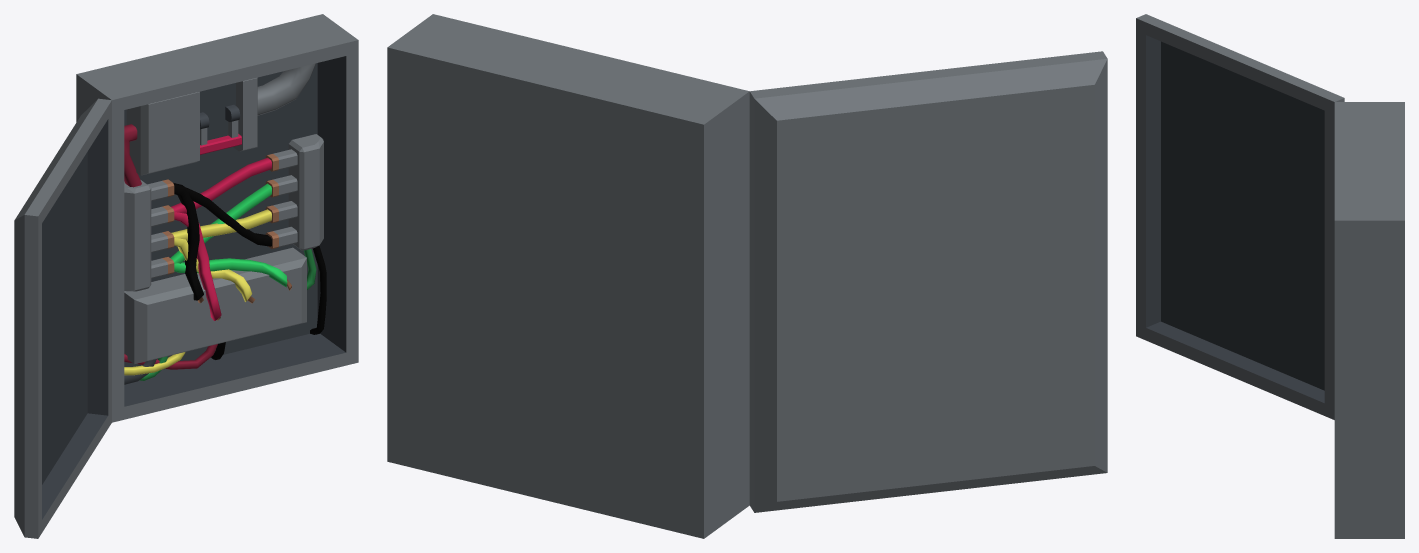
Rendered from fusebox.fbx.
3 renders of one model, left to right at view 1: azimuth 30°, elevation 25°; view 2: azimuth 150°, elevation 25°; view 3: azimuth 270°, elevation 25°, orthographic. The views are drawn at different scales.
Parts seen in each view (by area): view 1: Fusebox, FuseboxEquipment, FuseboxLid, WireBlueBroke, WireGreenBroke, WireRed, WireRedBroke, WireBlue, WireYellow, WireGreen, WireYellowBroke, Cube; view 2: Fusebox, FuseboxLid; view 3: FuseboxLid, Fusebox.
Part boxes in pixels (left/top/right/bottom): Fusebox: left=76, top=14, right=358, bottom=422; FuseboxEquipment: left=124, top=63, right=326, bottom=384; FuseboxLid: left=14, top=98, right=111, bottom=538; WireBlueBroke: left=173, top=183, right=203, bottom=303; WireGreenBroke: left=174, top=258, right=291, bottom=290; WireRed: left=171, top=158, right=271, bottom=213; WireRedBroke: left=174, top=212, right=221, bottom=320; WireBlue: left=176, top=187, right=271, bottom=246; WireYellow: left=171, top=209, right=271, bottom=241; WireGreen: left=170, top=183, right=271, bottom=263; WireYellowBroke: left=174, top=238, right=255, bottom=303; Cube: left=200, top=120, right=241, bottom=154; Fusebox: left=387, top=14, right=749, bottom=538; FuseboxLid: left=749, top=51, right=1107, bottom=512; FuseboxLid: left=1136, top=14, right=1344, bottom=419; Fusebox: left=1334, top=102, right=1404, bottom=538.
Size of the model in its own units: 0.697 by 0.5 by 0.3828.
